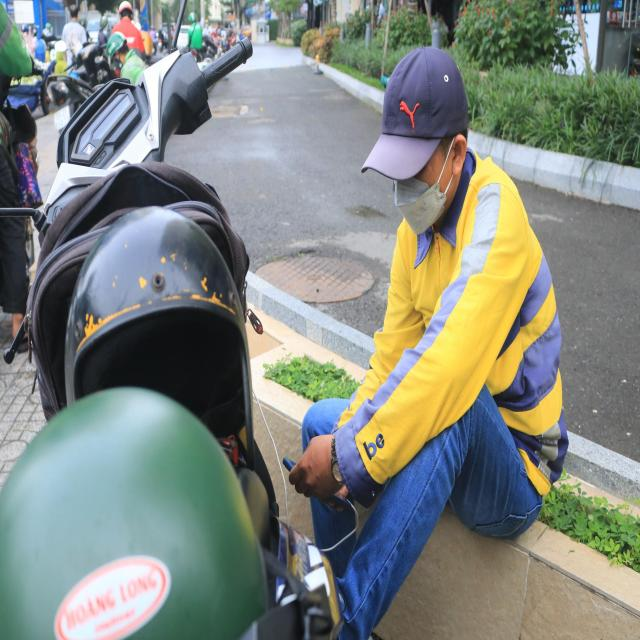no_helmet: (360, 45, 469, 182)
